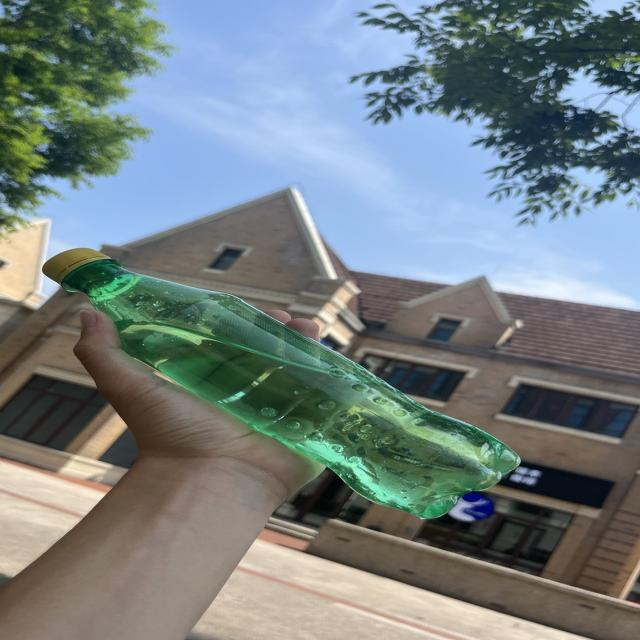medium: (43, 249, 518, 517)
